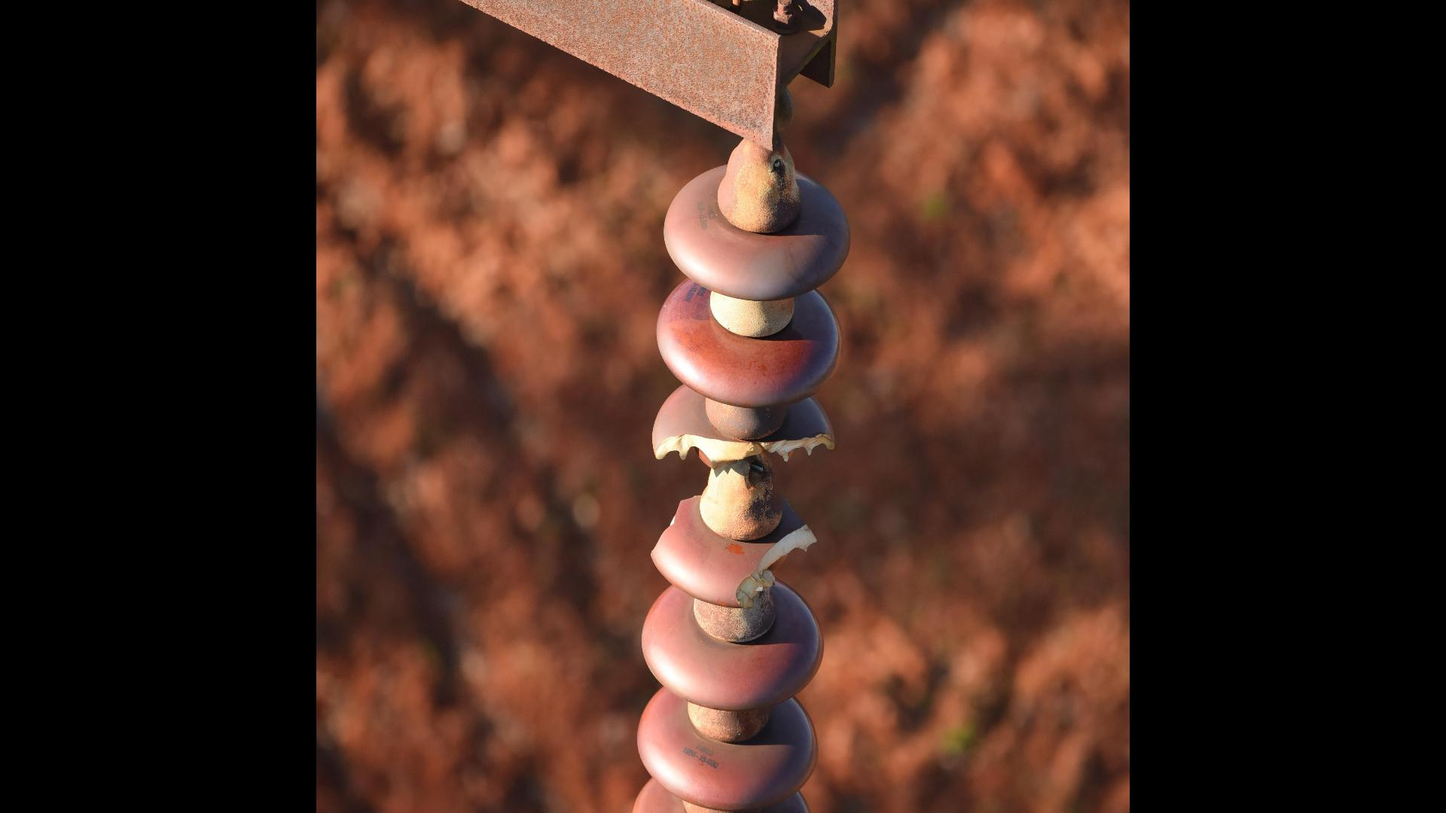insulator: (624, 153, 859, 813)
insulator_breakage: (647, 489, 822, 613), (649, 425, 842, 471)
